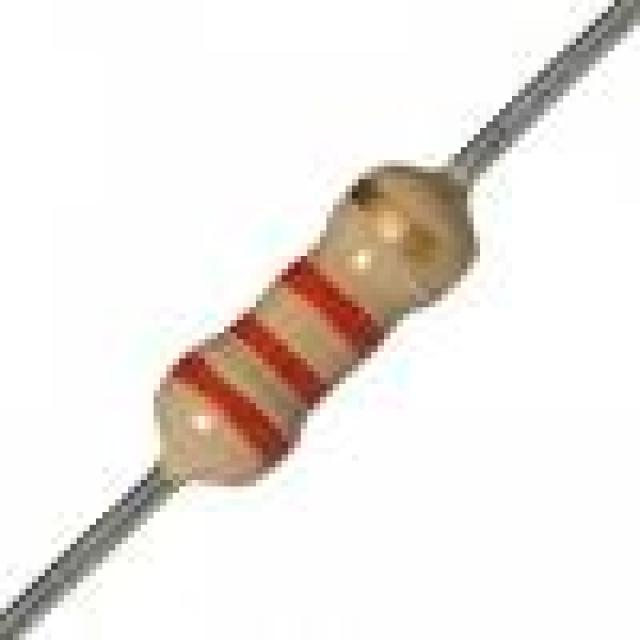Resistor: (154, 166, 474, 480)
gold: (352, 180, 473, 294)
red: (173, 352, 294, 473), (231, 308, 332, 409), (288, 263, 383, 358)
